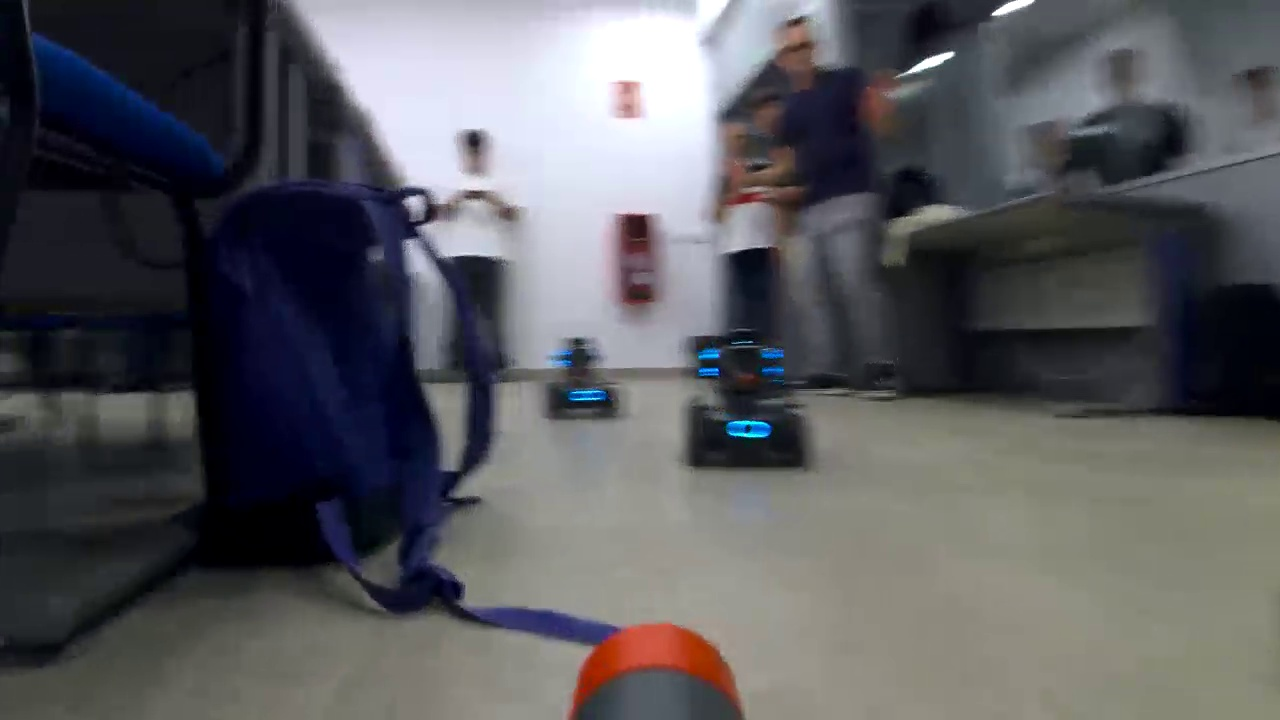robot: (672, 322, 813, 487), (539, 331, 625, 425)
